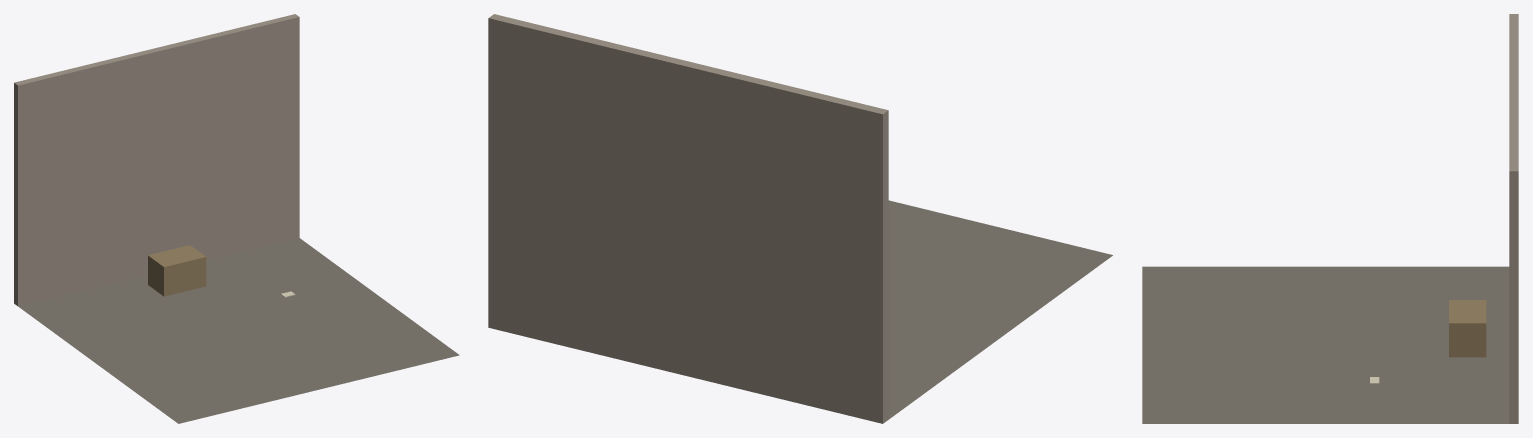
File: attic.glb
3 views of the same model, side by side, from view 1: azimuth 30°, elevation 25°; view 2: azimuth 150°, elevation 25°; view 3: azimuth 270°, elevation 25° (orthographic). The views are drawn at different scales.
Visible parts, largest first — view 1: AtticWall, AtticFloor, DustyTrunk; view 2: AtticWall, AtticFloor; view 3: AtticFloor, AtticWall, DustyTrunk.
Part boxes in pixels (x1,y1,x2,y2): AtticWall: (14, 14, 299, 306); AtticFloor: (18, 238, 459, 423); DustyTrunk: (148, 245, 206, 296); AtticWall: (488, 14, 888, 423); AtticFloor: (888, 200, 1112, 419); AtticFloor: (1142, 266, 1509, 423); AtticWall: (1509, 14, 1518, 423); DustyTrunk: (1449, 300, 1486, 357).
Size of the model in its own units: 4 by 3 by 4.05.
